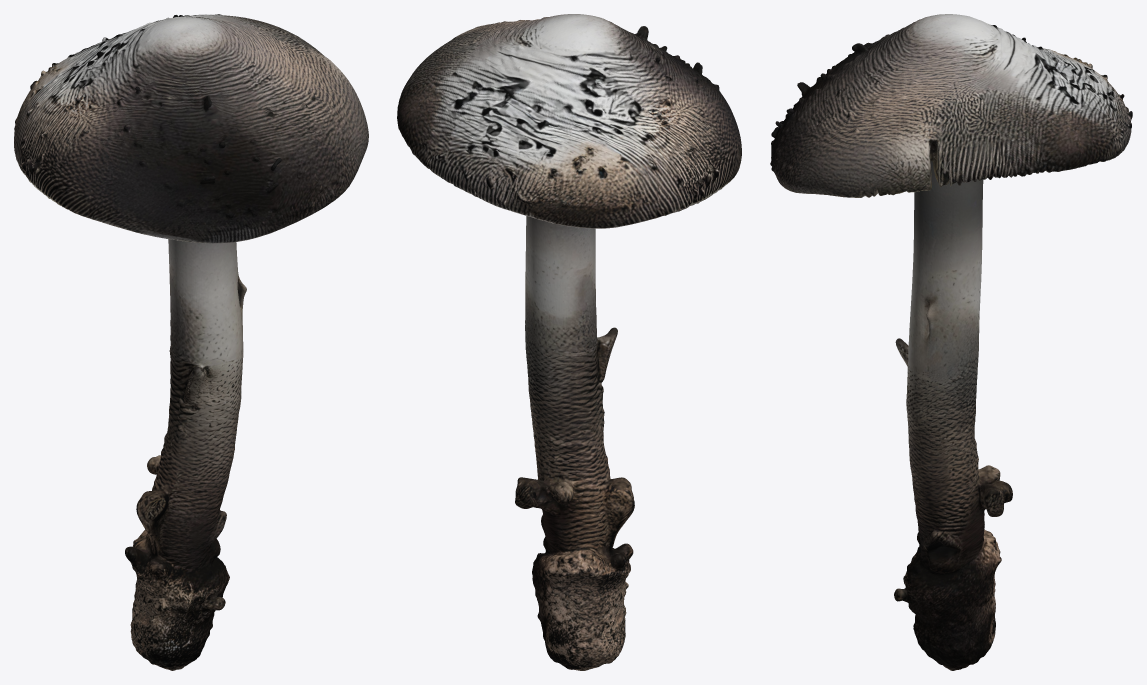
Rendered from Amanita_lippiae.glb.
3 renders of one model, left to right at view 1: azimuth 30°, elevation 25°; view 2: azimuth 150°, elevation 25°; view 3: azimuth 270°, elevation 25°, orthographic.
Parts seen in each view (by area): view 1: tripo_node_93bb7e60-fa39-48b6-babe-0e3778c73967; view 2: tripo_node_93bb7e60-fa39-48b6-babe-0e3778c73967; view 3: tripo_node_93bb7e60-fa39-48b6-babe-0e3778c73967.
Boxes of the visible parts, x1,y1,x2,y2 form: tripo_node_93bb7e60-fa39-48b6-babe-0e3778c73967: (14,14,368,670); tripo_node_93bb7e60-fa39-48b6-babe-0e3778c73967: (397,14,741,670); tripo_node_93bb7e60-fa39-48b6-babe-0e3778c73967: (770,14,1132,670).
Bounding box in the file's own units: 0.4807 × 1 × 0.5052.
1 material, 1 textured.
